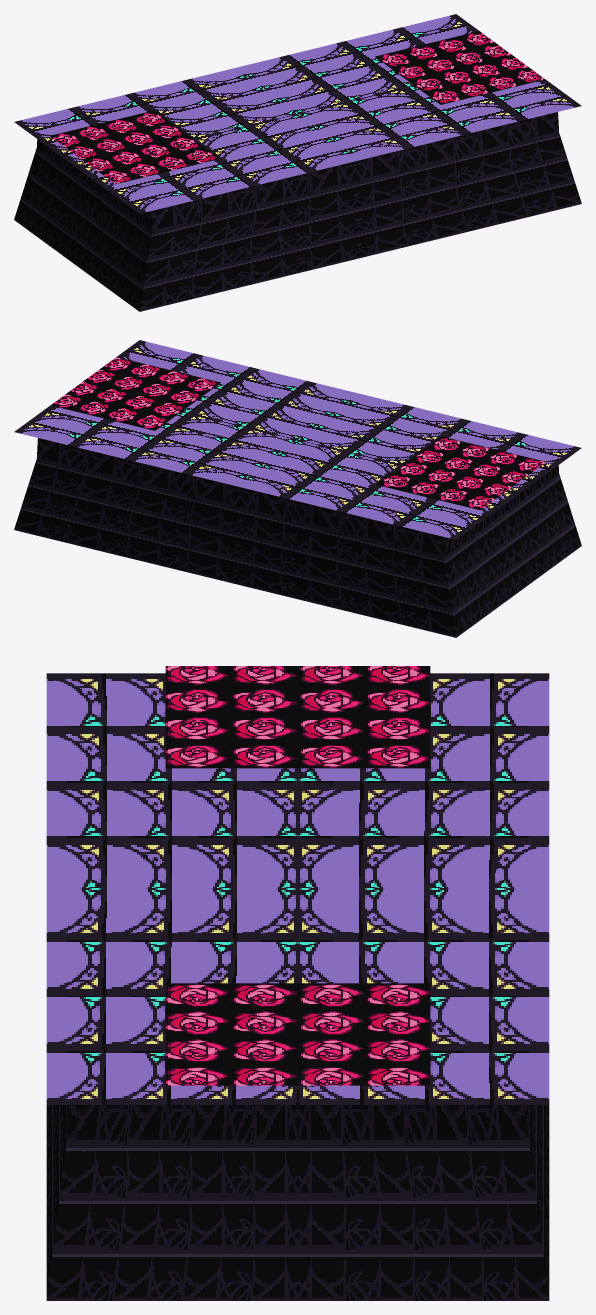
3 renders of one model, top to bottom at view 1: azimuth 30°, elevation 25°; view 2: azimuth 150°, elevation 25°; view 3: azimuth 270°, elevation 25°, orthographic. The views are drawn at different scales.
Visible parts, largest first — view 1: 3691kg_ko_ta1; view 2: 3691kg_ko_ta1; view 3: 3691kg_ko_ta1.
Boxes of the visible parts, left/top/right/bottom form: 3691kg_ko_ta1: left=14, top=14, right=581, bottom=311; 3691kg_ko_ta1: left=14, top=340, right=581, bottom=637; 3691kg_ko_ta1: left=46, top=666, right=549, bottom=1300.
Bounding box in the file's own units: 1.95 × 0.4399 × 0.96.
3 materials, 3 textured.
